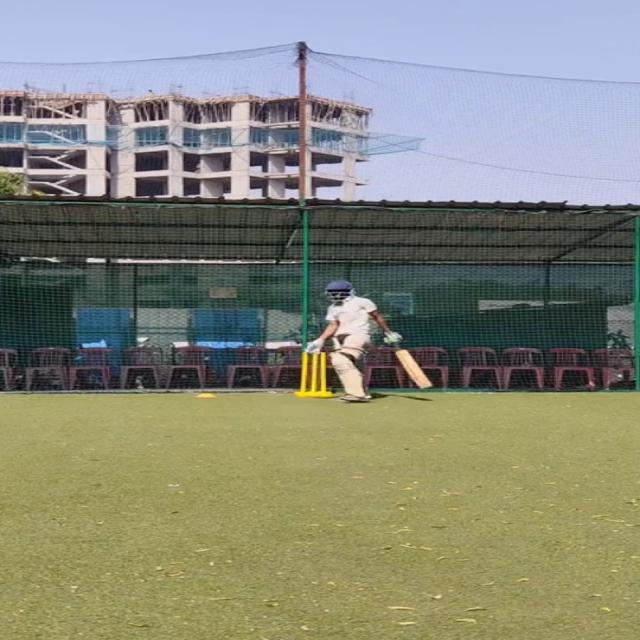stump: (294, 350, 331, 398)
